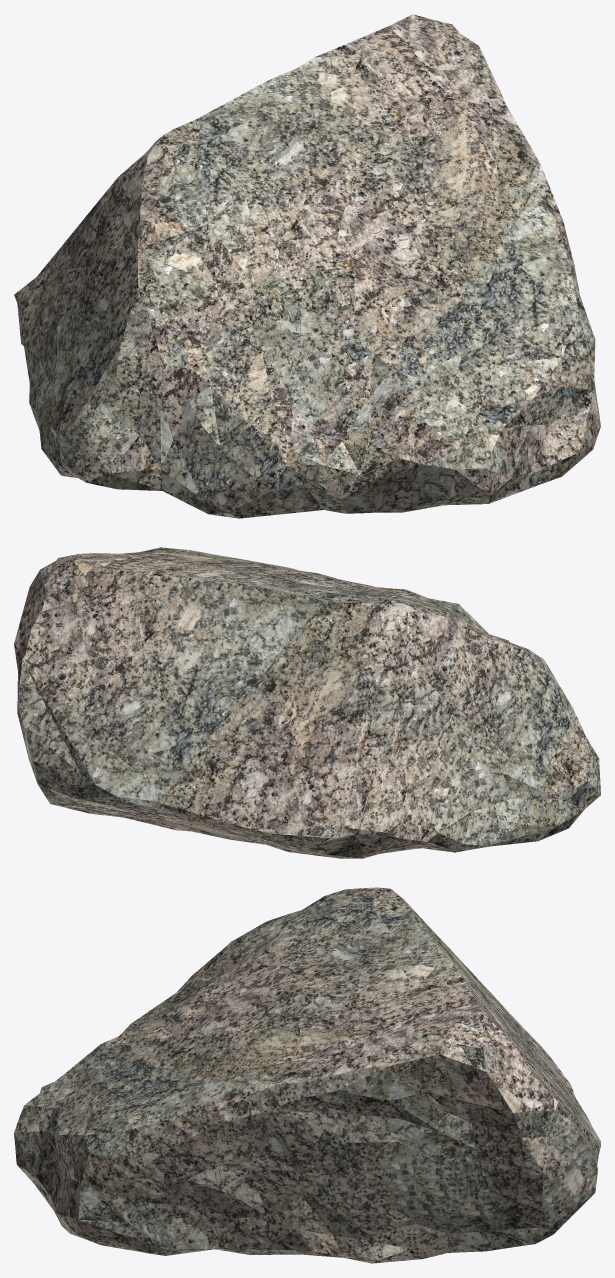
The model's file is rock1.dae.
The picture shows the model from 3 angles, top to bottom: view 1: azimuth 30°, elevation 25°; view 2: azimuth 150°, elevation 25°; view 3: azimuth 270°, elevation 25°; orthographic projection. The views are drawn at different scales.
Visible parts, largest first — view 1: skp2B5; view 2: skp2B5; view 3: skp2B5.
Boxes of the visible parts, x1=… form: skp2B5: x1=14, y1=14, x2=600, y2=518; skp2B5: x1=14, y1=547, x2=600, y2=858; skp2B5: x1=14, y1=887, x2=600, y2=1263.
Bounding box in the file's own units: 21.75 × 23.07 × 11.47.
1 material, 1 textured.
